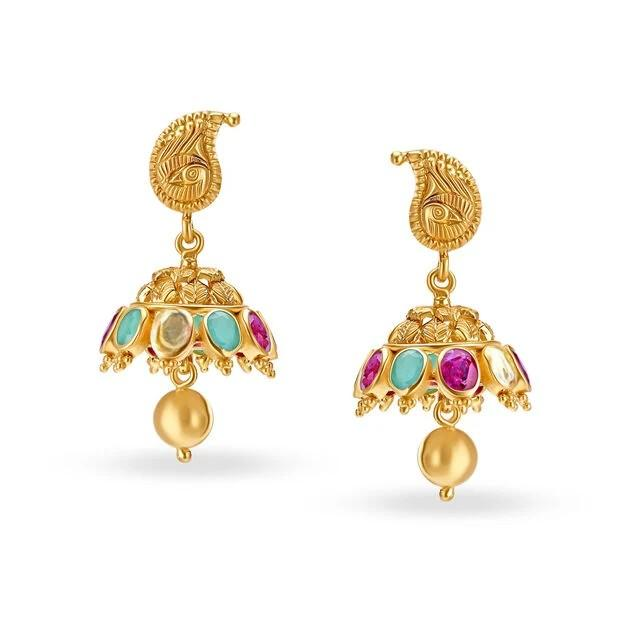missing gem: (154, 311, 191, 357), (485, 346, 515, 386)
